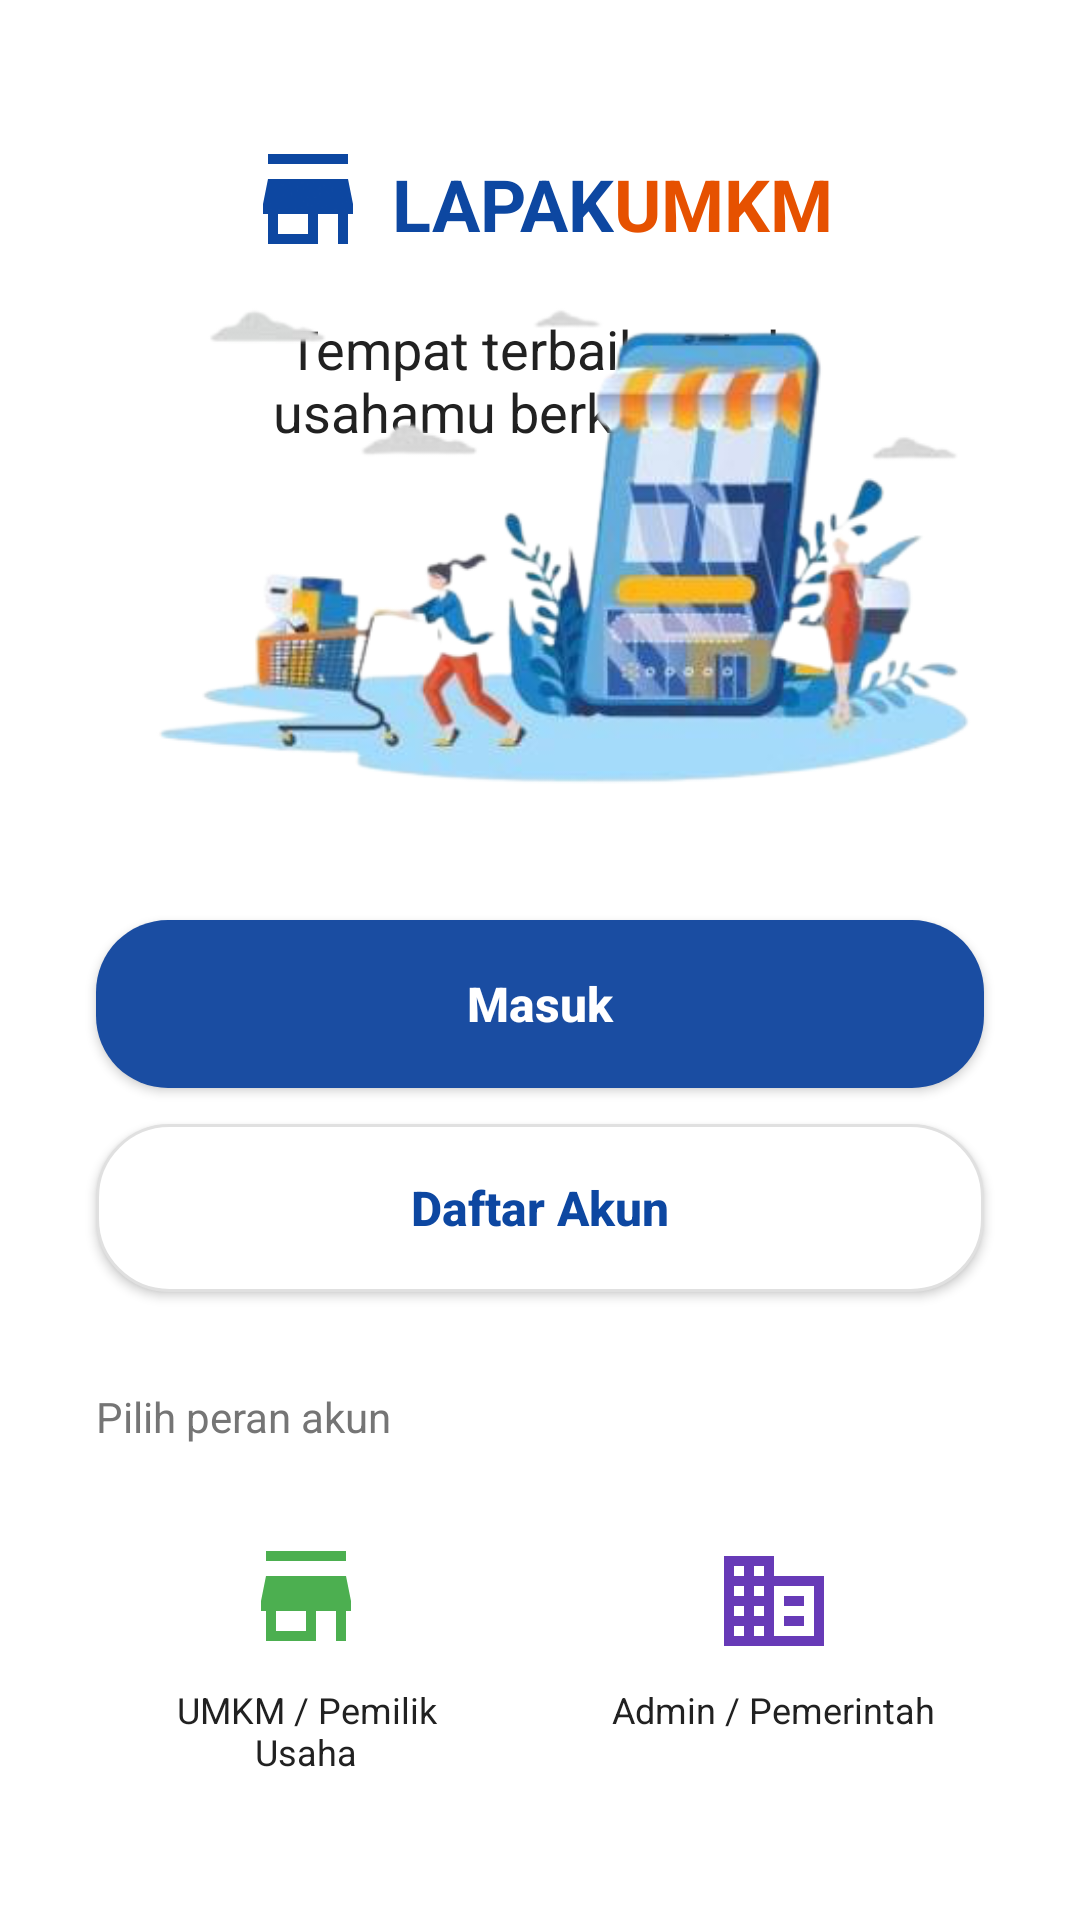

Named icons in this screenshot (1080*1920) and their centers, point (x, y):
shop: point (308, 199), point (306, 1596)
